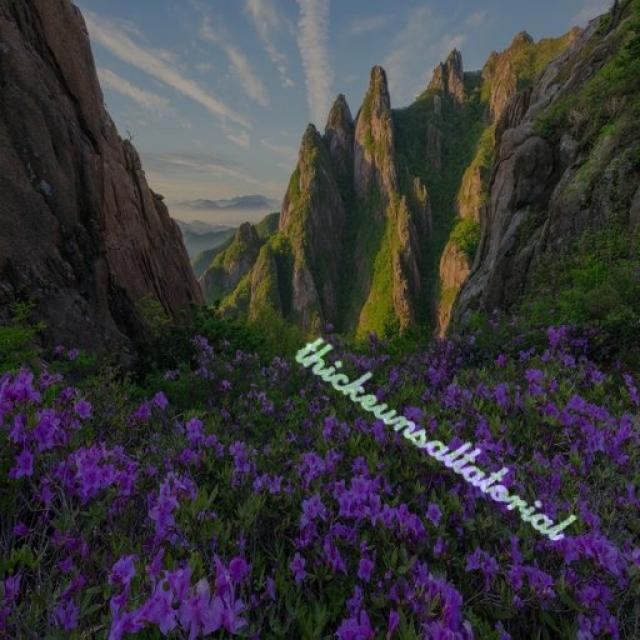watermark: (285, 326, 588, 550)
